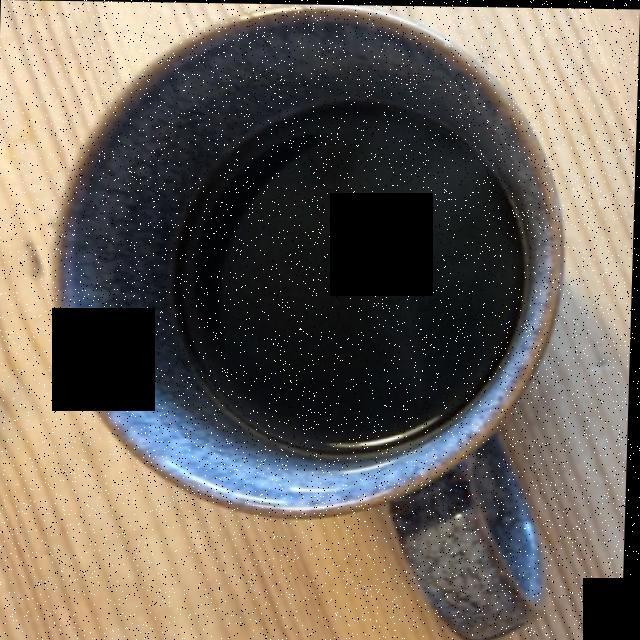coffee: (187, 103, 517, 444)
